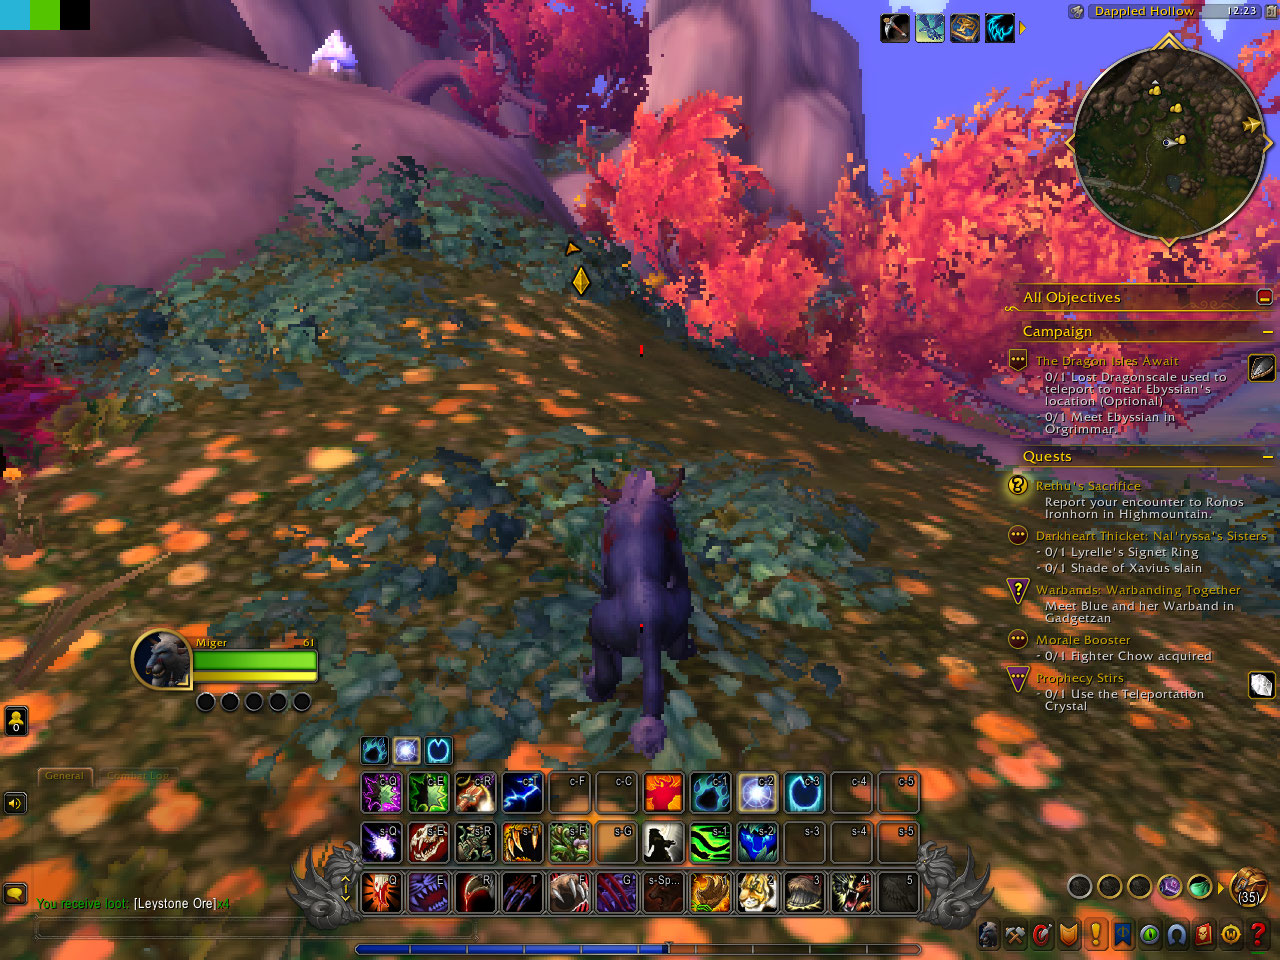ore: (306, 28, 370, 86)
